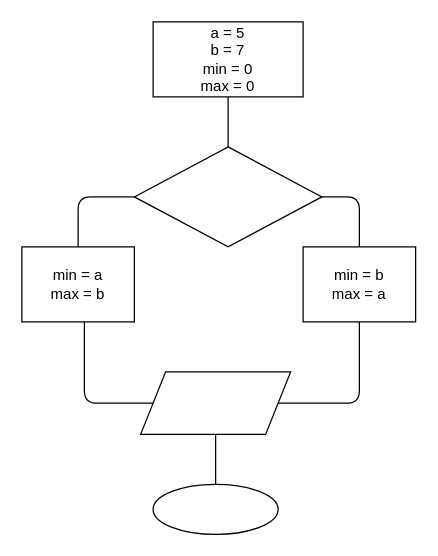
The diagram is 438 pixels wide and 556 high, and some of its shapes have lost their labels. The shapes that lost their labels are listed below. From the top down, each one's centre as x and y in pixels, then its label:
At pixel 227 196: "a > b".
At pixel 215 402: "Print(min, max)".
